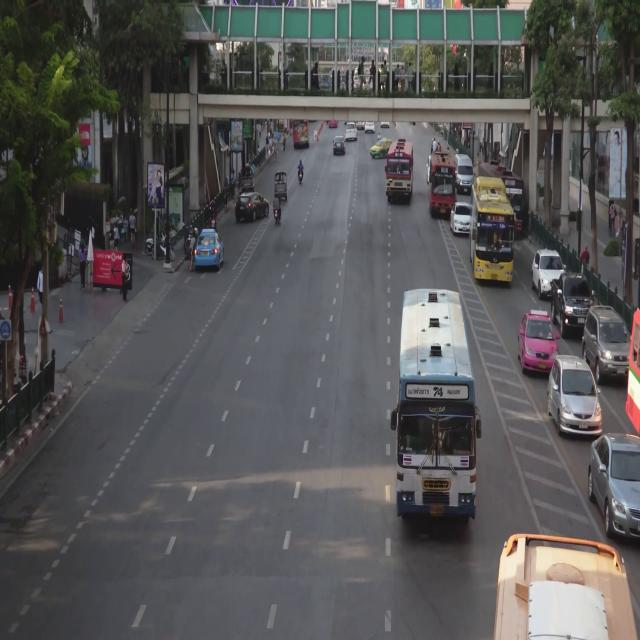bus: (401, 293, 475, 527), (497, 536, 638, 640), (472, 181, 512, 282), (481, 162, 524, 238), (430, 153, 455, 217), (388, 141, 412, 203), (629, 310, 640, 432), (293, 119, 309, 148)
car: (589, 433, 640, 541), (548, 356, 602, 435), (584, 308, 630, 381), (552, 274, 593, 336), (531, 248, 565, 297), (236, 193, 269, 219), (456, 154, 474, 193), (451, 203, 472, 233), (240, 168, 254, 192), (275, 172, 287, 200), (334, 136, 345, 154), (346, 122, 357, 140), (366, 121, 375, 133), (356, 122, 364, 130), (428, 155, 430, 183)
pedestrian: (122, 257, 129, 303), (79, 244, 86, 290), (38, 268, 45, 309), (130, 210, 137, 247), (611, 200, 616, 235), (114, 221, 119, 252), (607, 200, 612, 230), (180, 175, 187, 193), (224, 178, 228, 208), (231, 168, 235, 196), (265, 133, 269, 157), (283, 133, 286, 152), (270, 135, 273, 153)
taxi: (519, 310, 558, 375), (196, 230, 223, 269), (371, 139, 393, 159), (329, 121, 338, 128)
